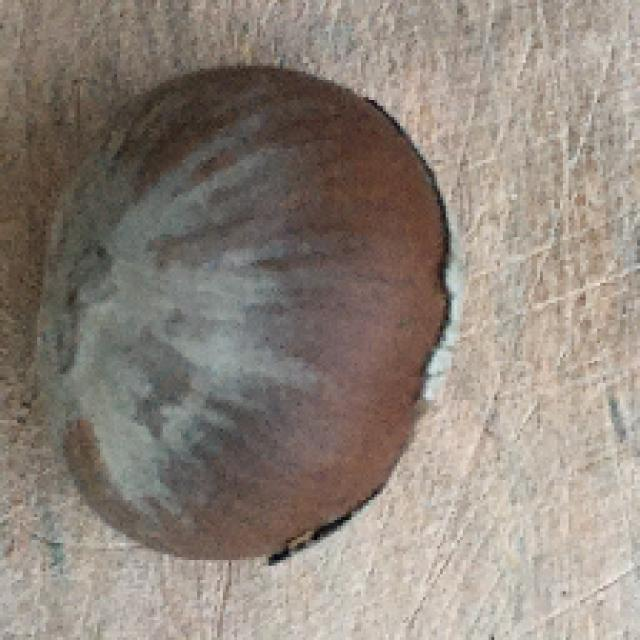damagedHazelnut: (33, 60, 458, 557)
